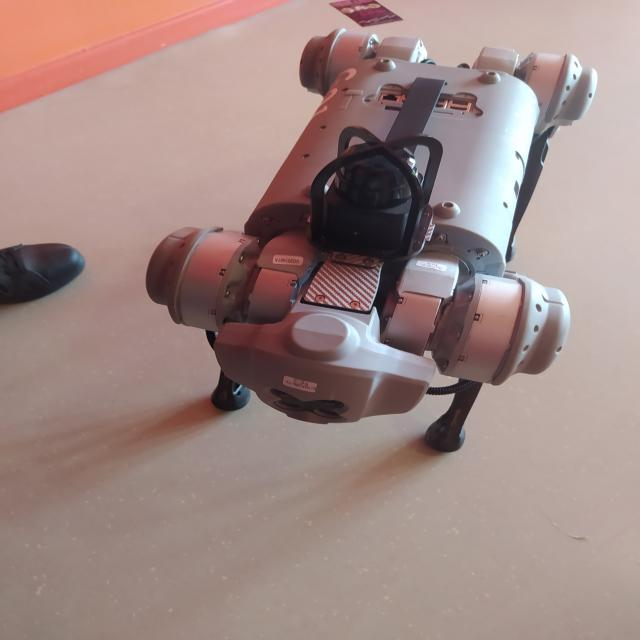unitree-go1-robot: (125, 12, 633, 474)
